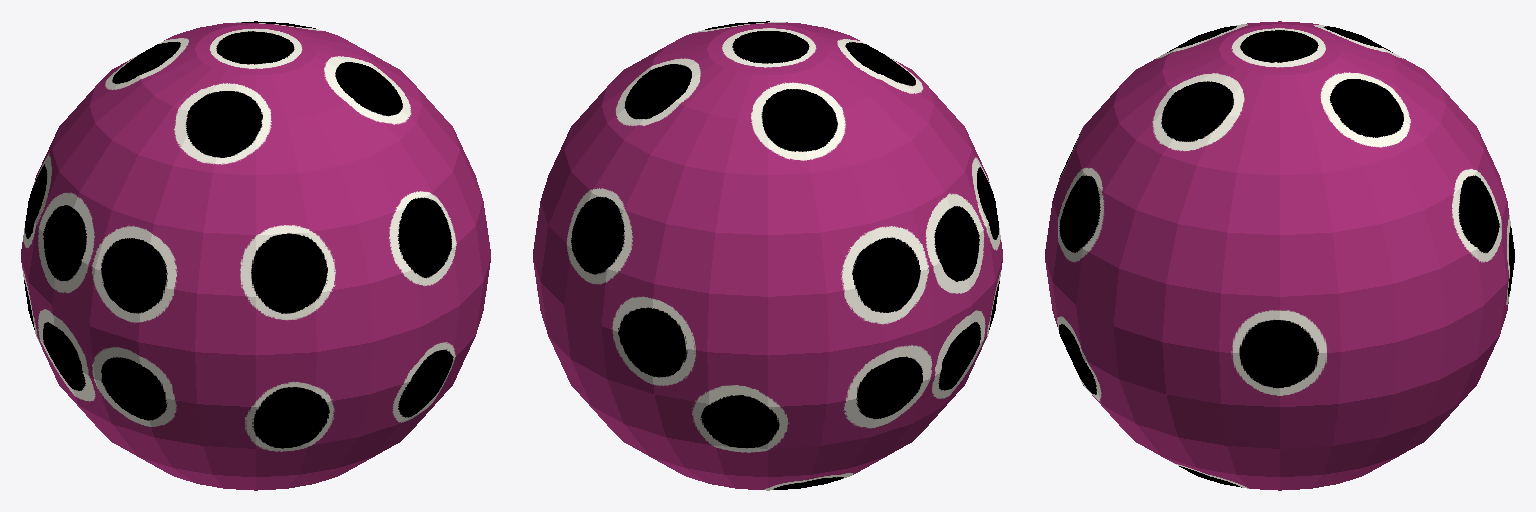
3 views of the same model, side by side, from view 1: azimuth 30°, elevation 25°; view 2: azimuth 150°, elevation 25°; view 3: azimuth 270°, elevation 25° (orthographic).
Visible parts, largest first — view 1: Sphere_None; view 2: Sphere_None; view 3: Sphere_None.
Boxes of the visible parts, x1=… form: Sphere_None: x1=21, y1=21, x2=490, y2=490; Sphere_None: x1=533, y1=21, x2=1002, y2=490; Sphere_None: x1=1045, y1=21, x2=1514, y2=490.
Bounding box in the file's own units: 2 × 2 × 2.
1 materials, 1 textured.